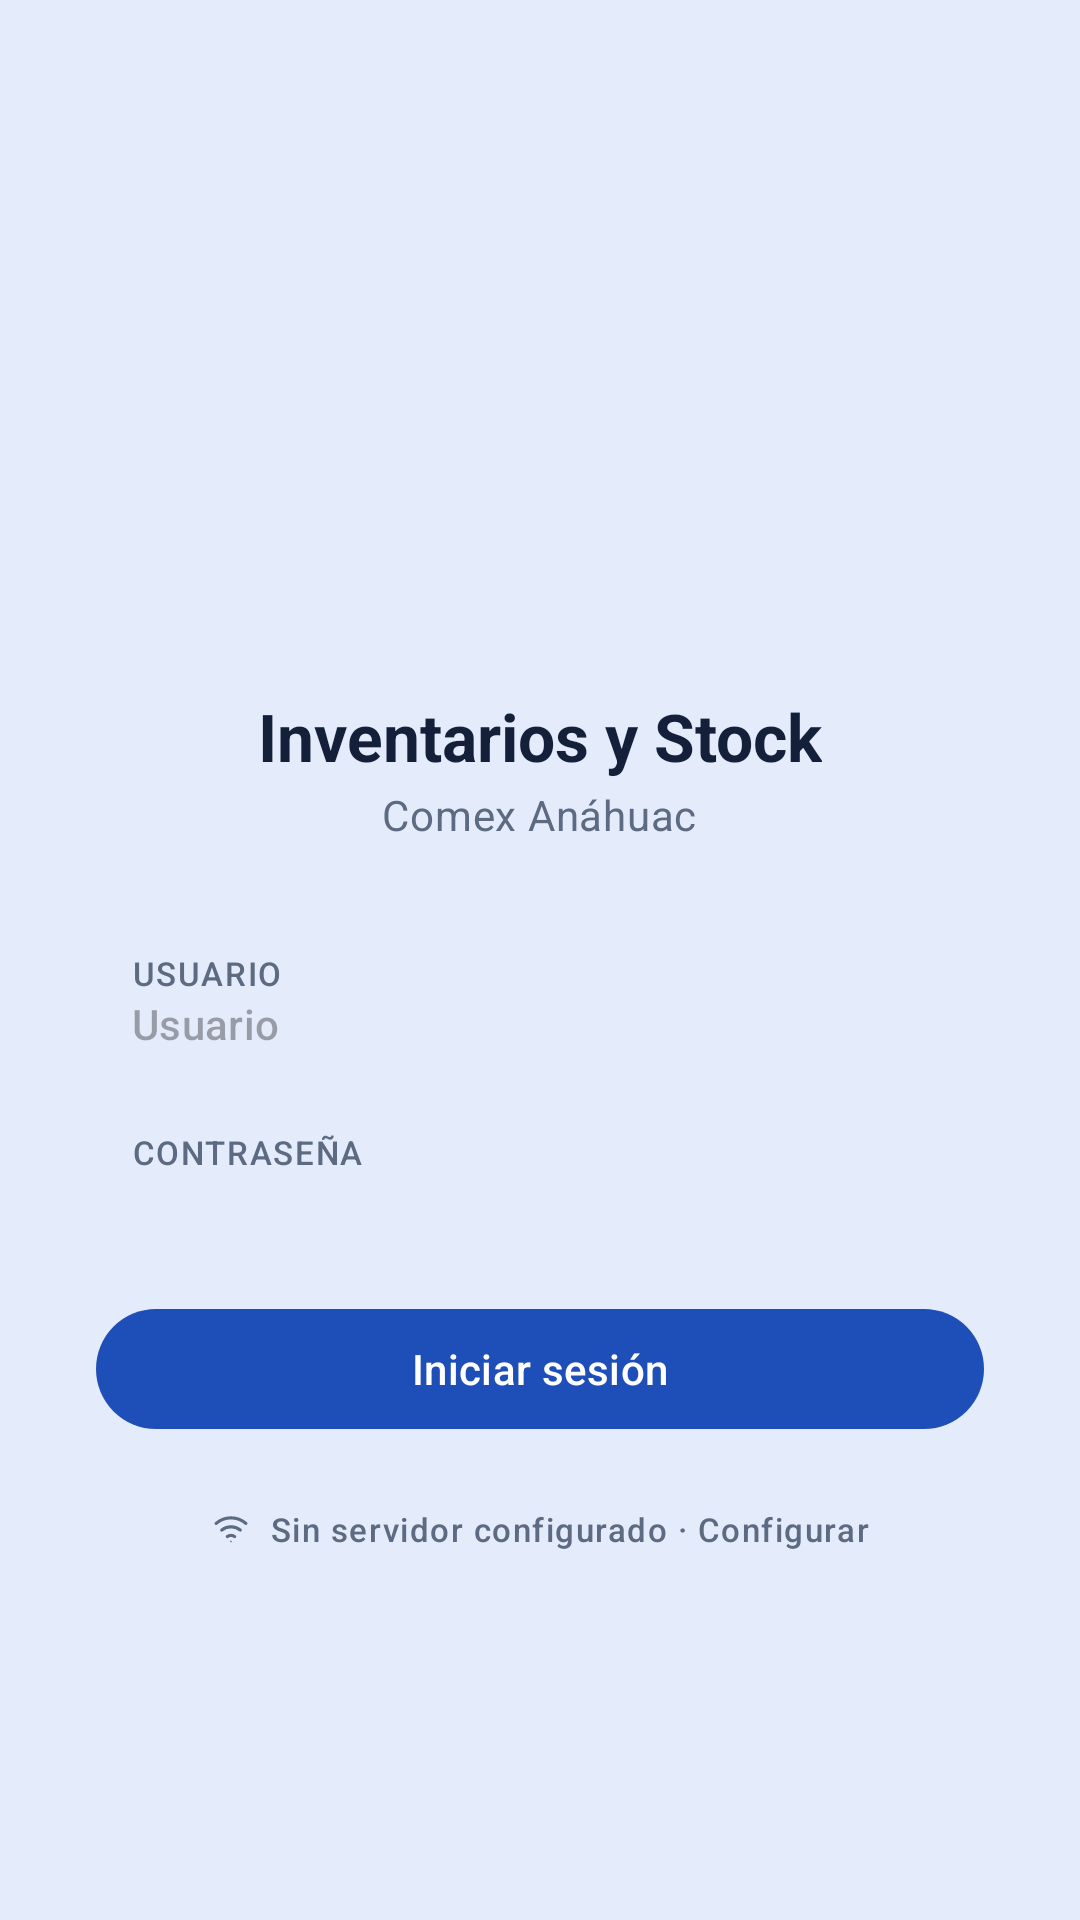

Named icons in this screenshot (1080px x 1920px) and their bounding boxes, Rect(x1, y1, x2, y2):
wifi: Rect(214, 1516, 248, 1542)
